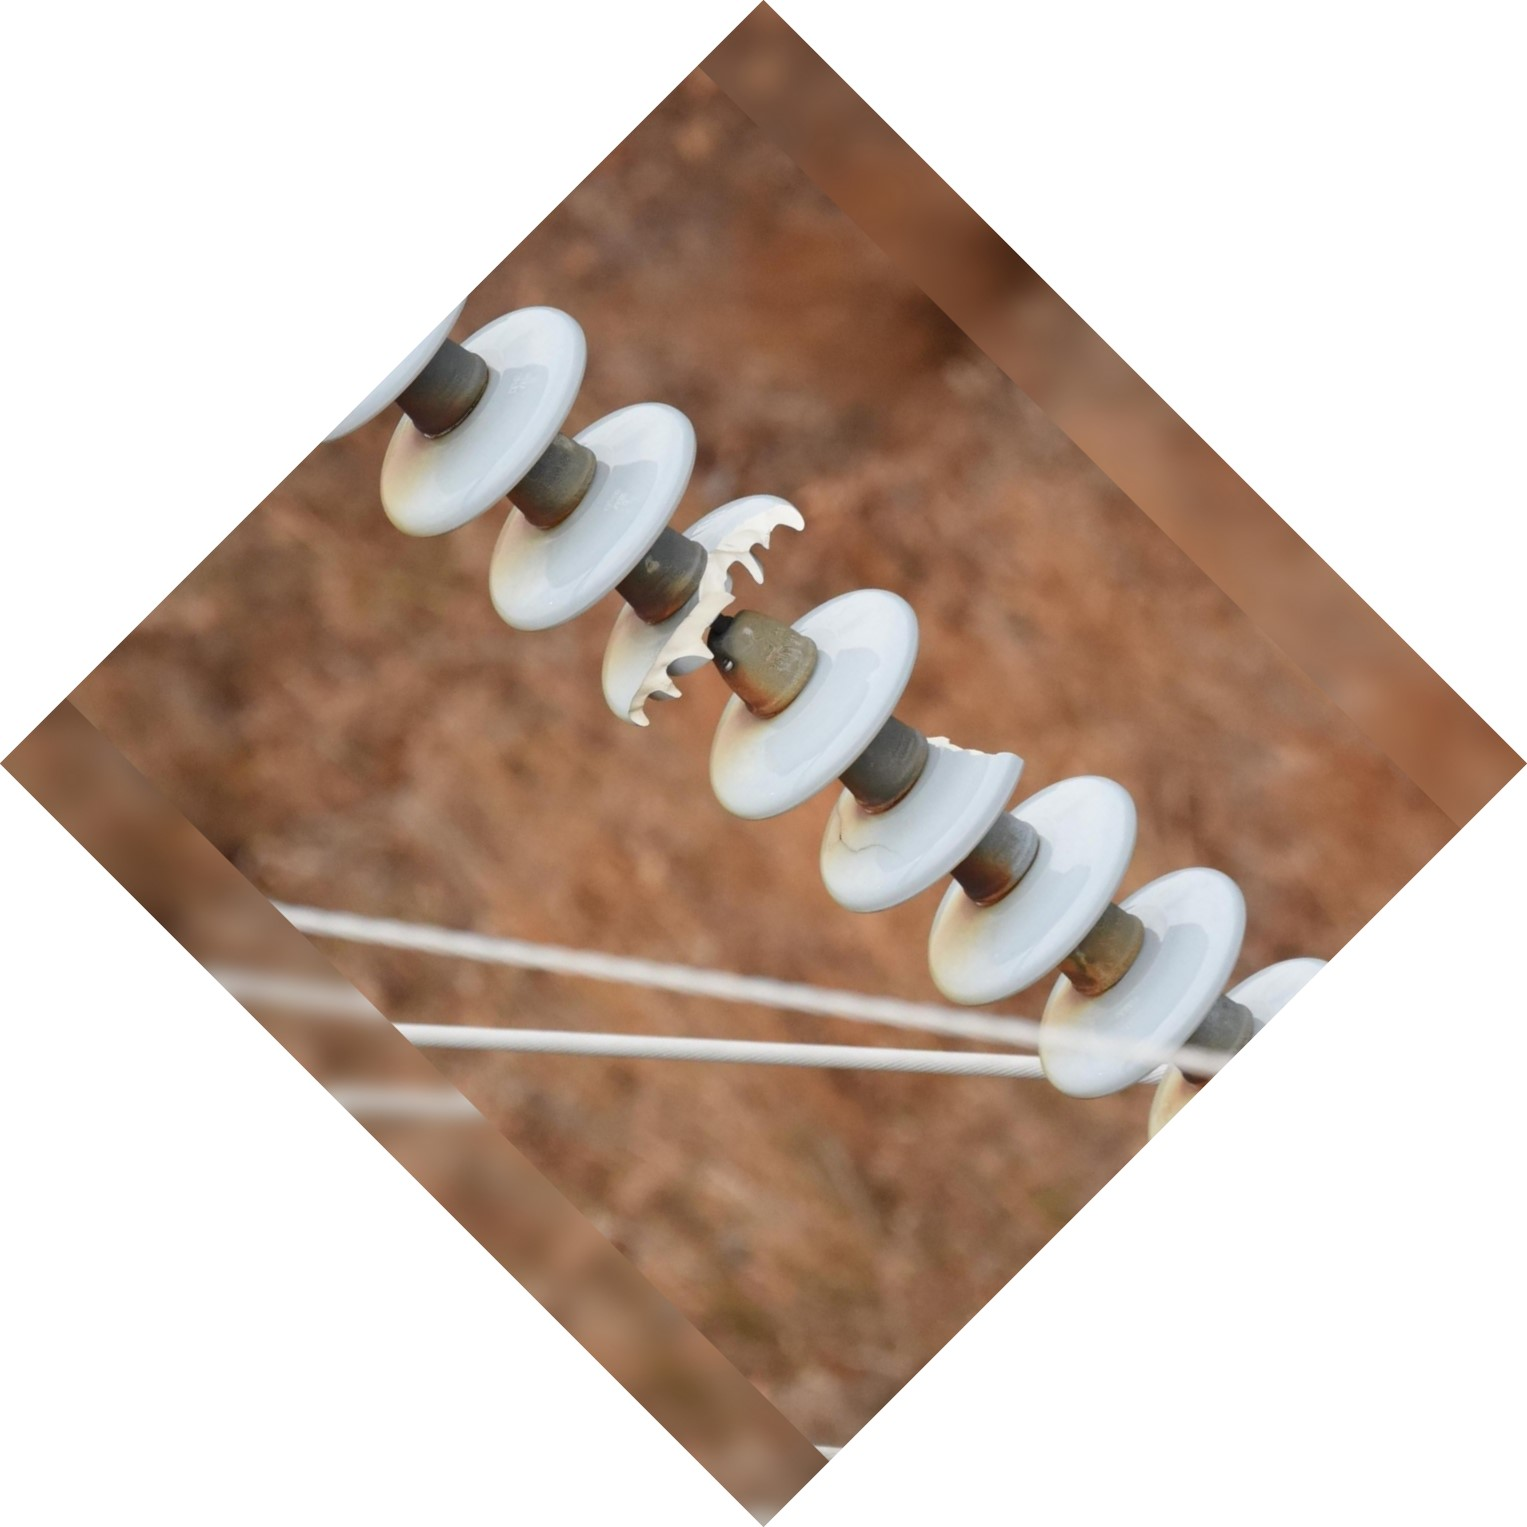insulator breakage: (596, 478, 818, 724)
